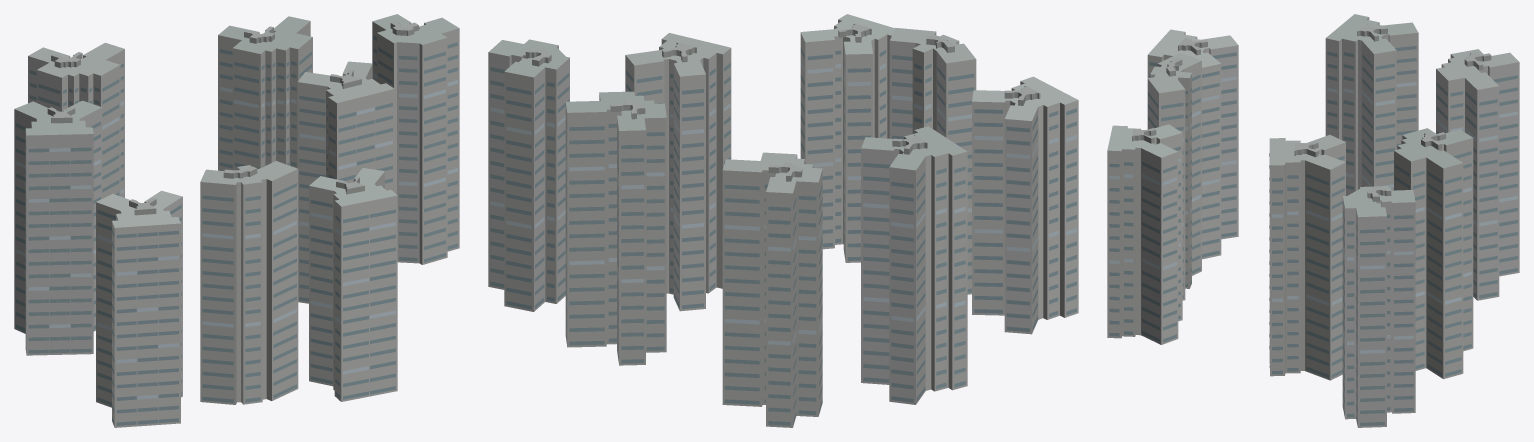
Rendered from apt-a13776301.glb.
3 renders of one model, left to right at view 1: azimuth 30°, elevation 25°; view 2: azimuth 150°, elevation 25°; view 3: azimuth 270°, elevation 25°, orthographic. The views are drawn at different scales.
Parts seen in each view (by area): view 1: apt-a13776301; view 2: apt-a13776301; view 3: apt-a13776301.
Boxes of the visible parts, bbox=[...] form: apt-a13776301: bbox=[14, 14, 459, 427]; apt-a13776301: bbox=[488, 14, 1078, 427]; apt-a13776301: bbox=[1107, 14, 1519, 427].
Bounding box in the file's own units: 208 × 101 × 175.
